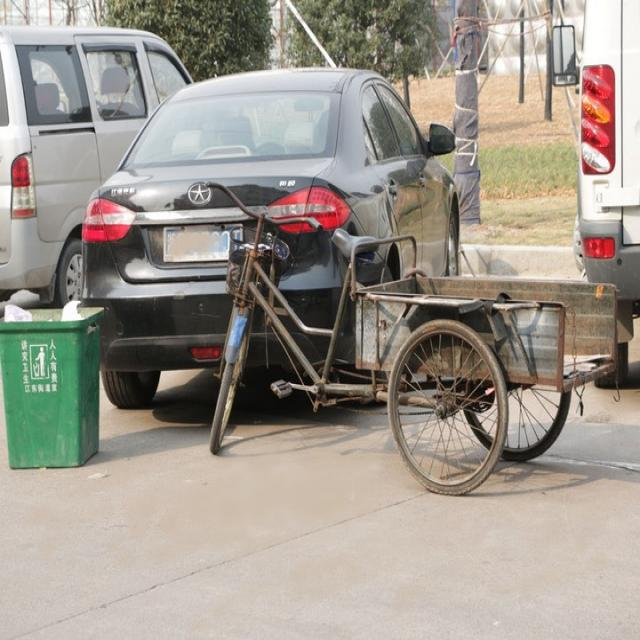ash bin: (0, 304, 104, 468)
car: (76, 66, 458, 406), (0, 24, 196, 308), (566, 2, 639, 389)
